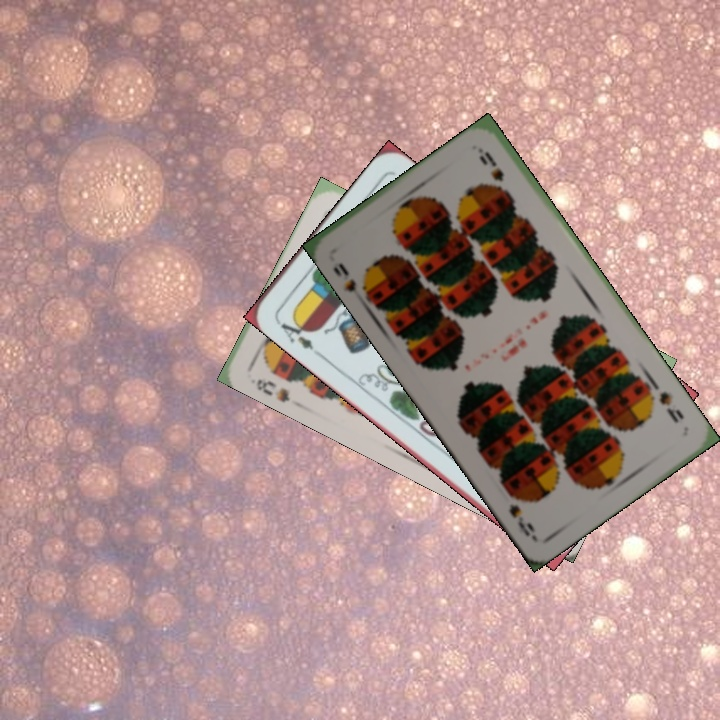EA: (272, 312, 323, 358)
S8: (252, 375, 293, 405)
S9: (328, 258, 374, 302), (655, 387, 687, 426)
